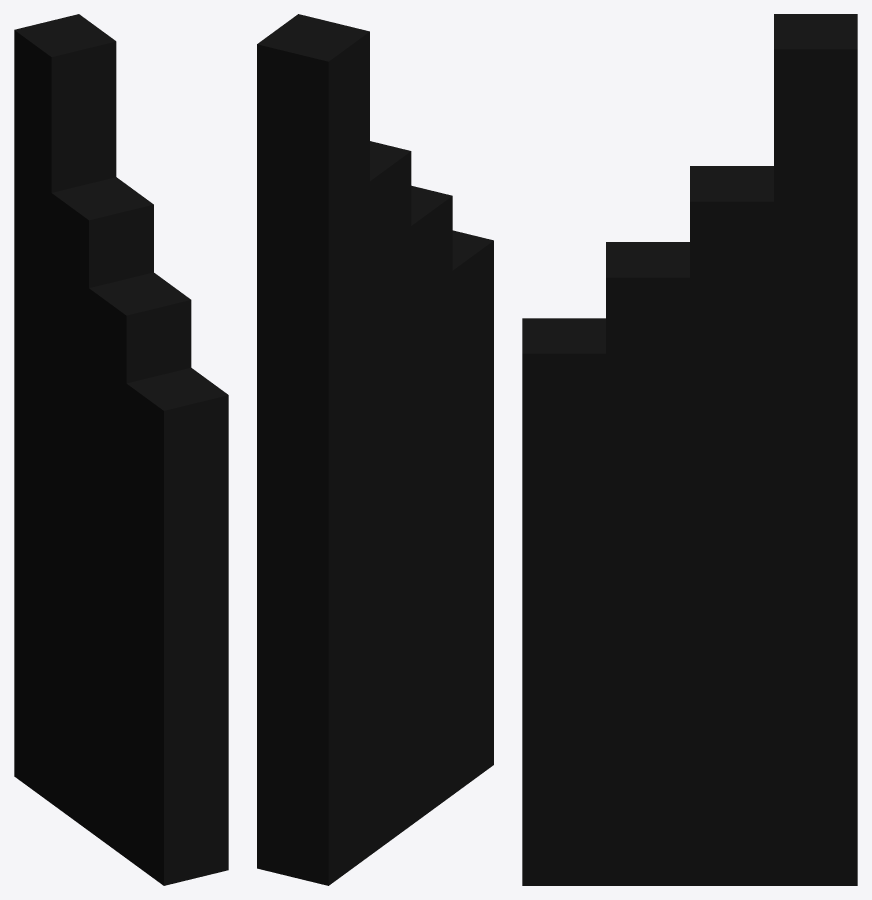
The model's file is pressuredevicearrow.obj.
The picture shows the model from 3 angles, left to right: view 1: azimuth 30°, elevation 25°; view 2: azimuth 150°, elevation 25°; view 3: azimuth 270°, elevation 25°; orthographic projection. The views are drawn at different scales.
Bounding box in the file's own units: 0.1 × 1.1 × 0.4.
1 material, 1 textured.
